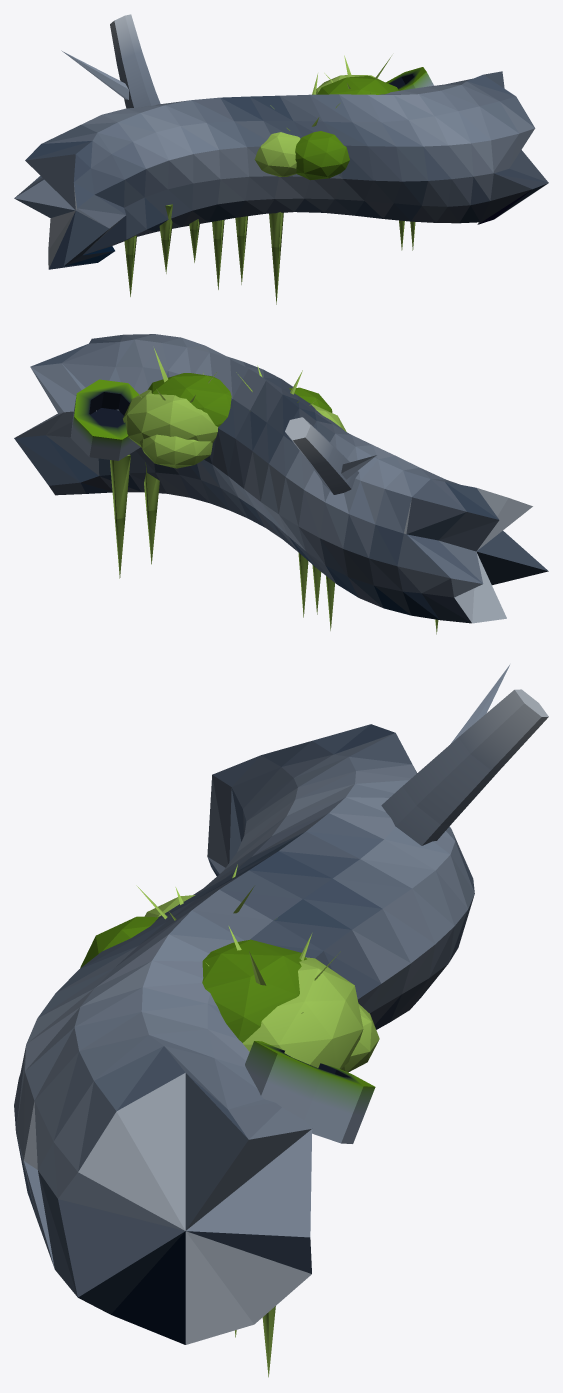
The model's file is pohon_tumbang_bridge_driftwood_748026.glb.
3 renders of one model, top to bottom at view 1: azimuth 30°, elevation 25°; view 2: azimuth 150°, elevation 25°; view 3: azimuth 270°, elevation 25°, orthographic. The views are drawn at different scales.
Parts seen in each view (by area): view 1: Batang_Melintang_Sungai; view 2: Batang_Melintang_Sungai; view 3: Batang_Melintang_Sungai.
Boxes of the visible parts, bbox=[...] form: Batang_Melintang_Sungai: bbox=[14, 14, 548, 304]; Batang_Melintang_Sungai: bbox=[14, 334, 548, 634]; Batang_Melintang_Sungai: bbox=[14, 665, 548, 1377].
Size of the model in its own units: 5.16 by 2.76 by 2.73.
